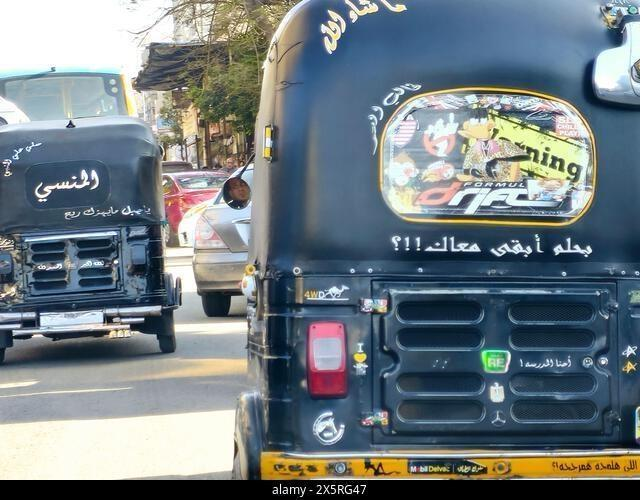keke: (230, 0, 640, 480), (0, 126, 176, 372)
